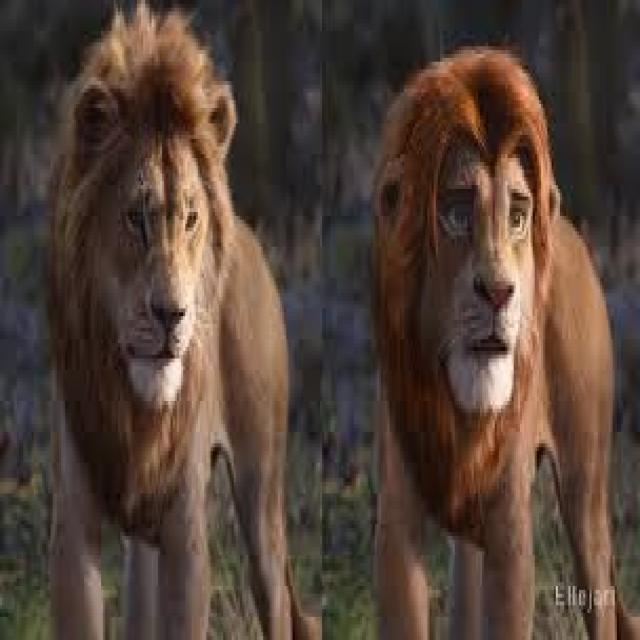Lion: (45, 23, 323, 635)
